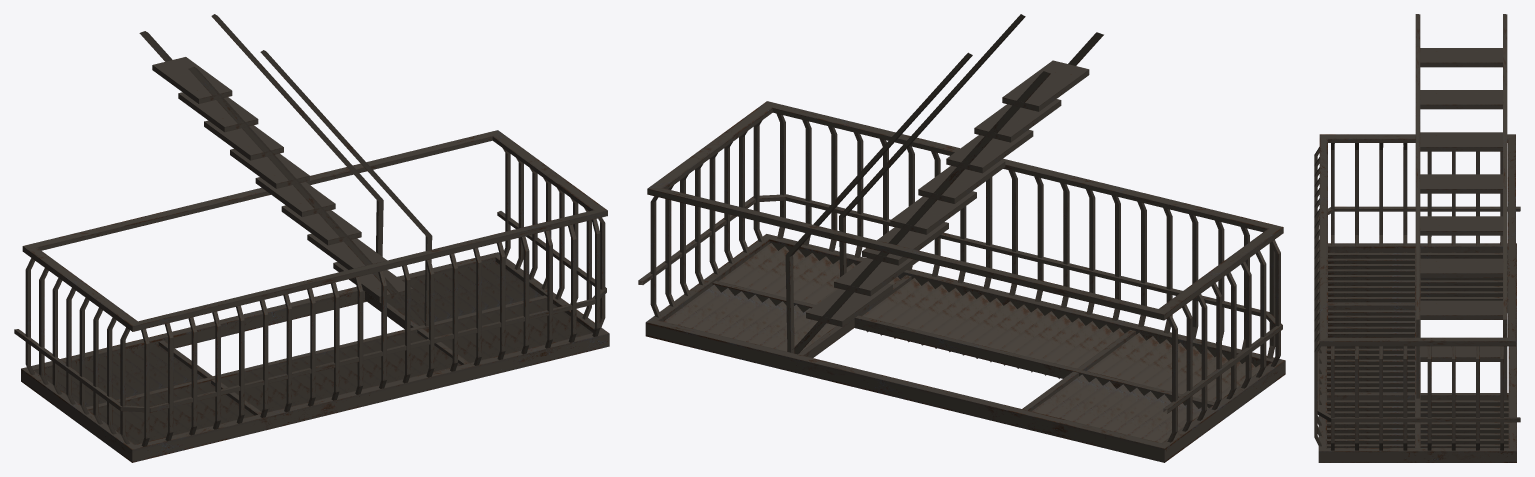
File: Prop_FireEscape_Center.gltf
3 renders of one model, left to right at view 1: azimuth 30°, elevation 25°; view 2: azimuth 150°, elevation 25°; view 3: azimuth 270°, elevation 25°, orthographic. The views are drawn at different scales.
Visible parts, largest first — view 1: Prop_FireEscape_Center; view 2: Prop_FireEscape_Center; view 3: Prop_FireEscape_Center.
Boxes of the visible parts, left/top/right/bottom form: Prop_FireEscape_Center: left=14, top=14, right=609, bottom=462; Prop_FireEscape_Center: left=638, top=14, right=1285, bottom=462; Prop_FireEscape_Center: left=1314, top=14, right=1520, bottom=462.
Bounding box in the file's own units: 4.8 × 3.07 × 1.98.
1 material, 1 textured.
